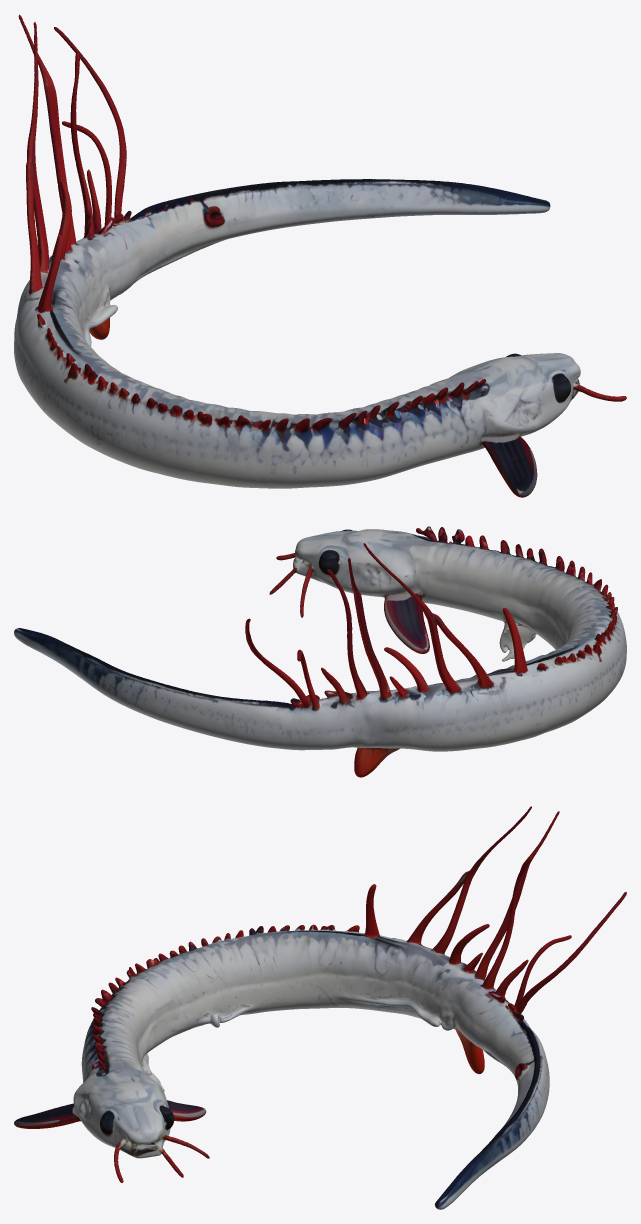
Rendered from oarZ_2.glb.
3 renders of one model, top to bottom at view 1: azimuth 30°, elevation 25°; view 2: azimuth 150°, elevation 25°; view 3: azimuth 270°, elevation 25°, orthographic. The views are drawn at different scales.
Visible parts, largest first — view 1: tripo_node_59ac89ef-cfd6-4576-9fa2-341e73f6f2c7; view 2: tripo_node_59ac89ef-cfd6-4576-9fa2-341e73f6f2c7; view 3: tripo_node_59ac89ef-cfd6-4576-9fa2-341e73f6f2c7.
Boxes of the visible parts, left/top/right/bottom form: tripo_node_59ac89ef-cfd6-4576-9fa2-341e73f6f2c7: left=14, top=14, right=626, bottom=497; tripo_node_59ac89ef-cfd6-4576-9fa2-341e73f6f2c7: left=14, top=526, right=626, bottom=777; tripo_node_59ac89ef-cfd6-4576-9fa2-341e73f6f2c7: left=14, top=806, right=626, bottom=1209.
Size of the model in its own units: 0.9235 by 0.4706 by 1.
Materials: 1 (1 with a texture image).
